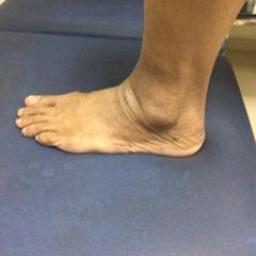Lateral View -Left Foot-: (8, 48, 222, 175)
